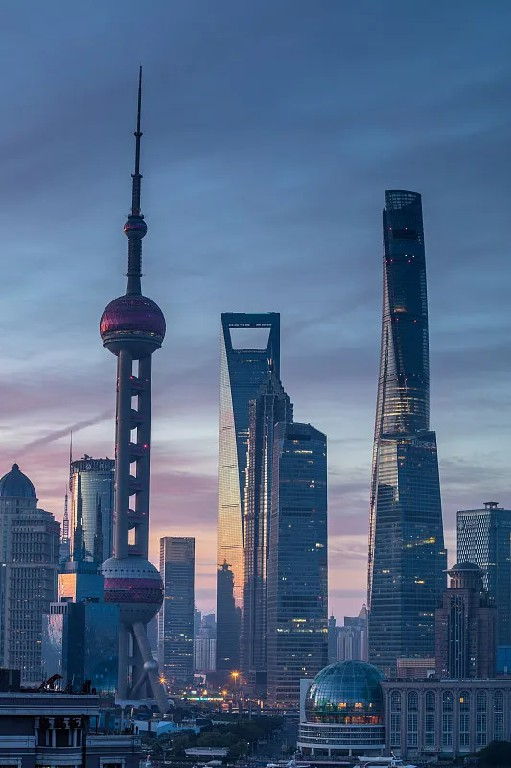Oriental: (100, 63, 171, 715)
